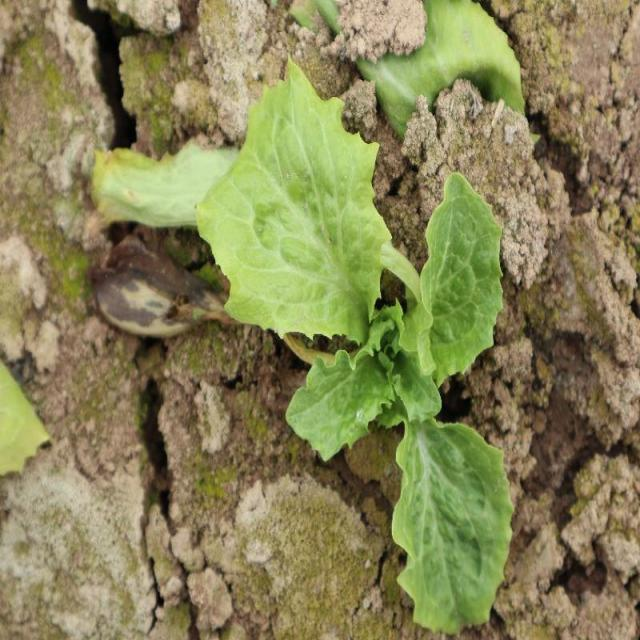crop: (192, 61, 517, 640)
